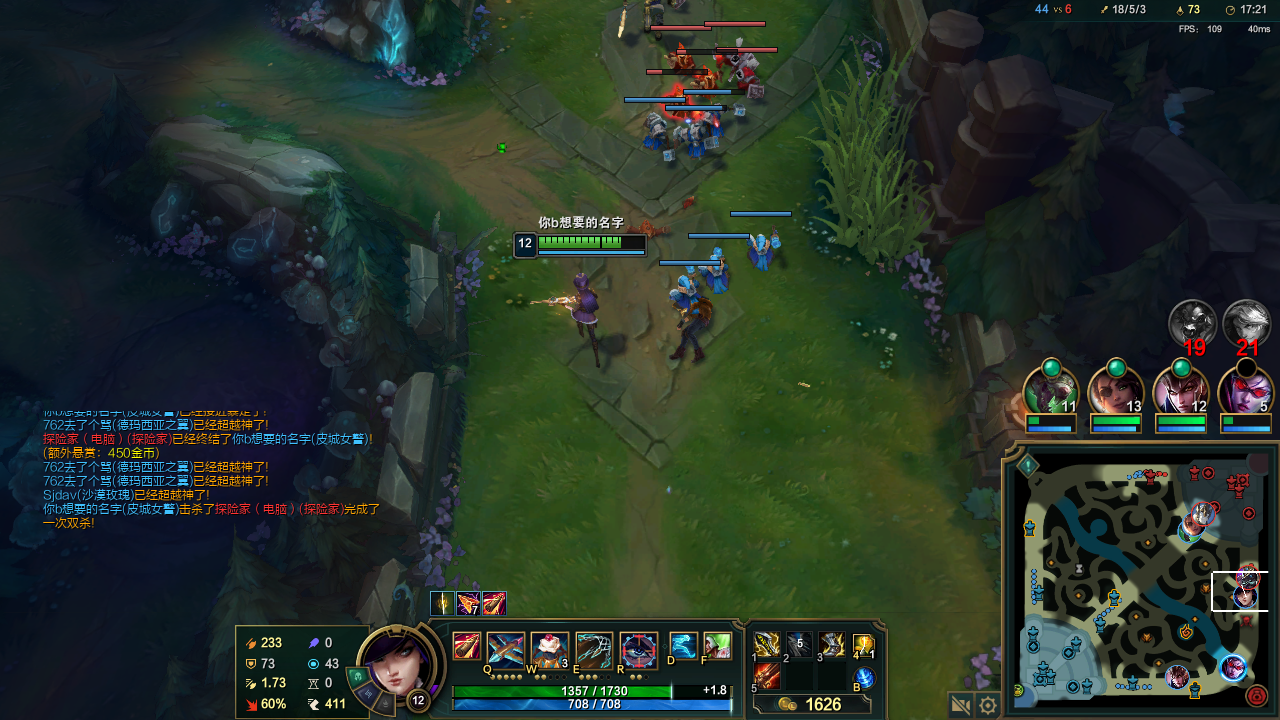DFXB: (690, 63, 719, 94), (658, 85, 692, 111), (731, 67, 766, 91), (721, 44, 753, 70), (664, 43, 692, 63)
WFXB: (666, 269, 704, 318), (748, 230, 786, 270), (674, 125, 715, 160), (709, 101, 751, 134), (701, 244, 726, 296), (641, 117, 670, 157)
